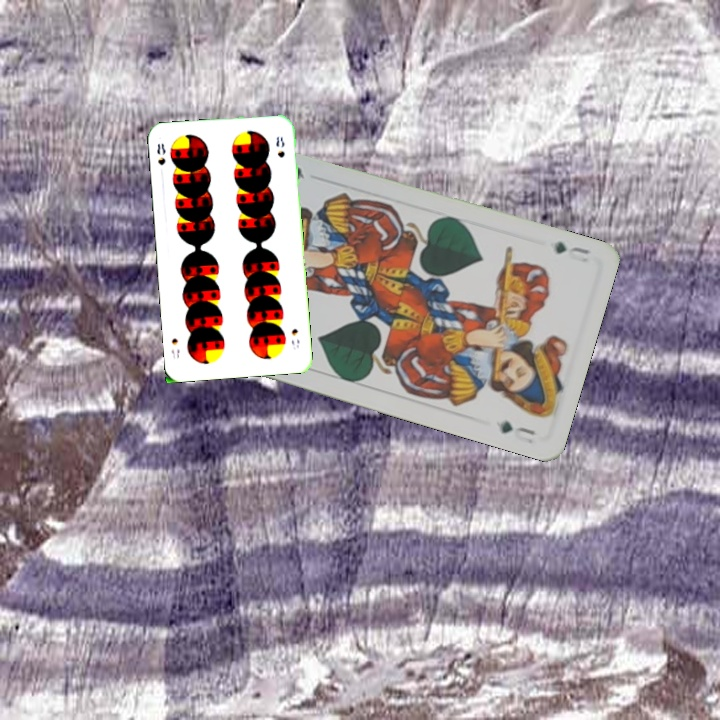GU: (550, 237, 593, 257)
S8: (153, 139, 168, 168), (287, 325, 302, 352)
